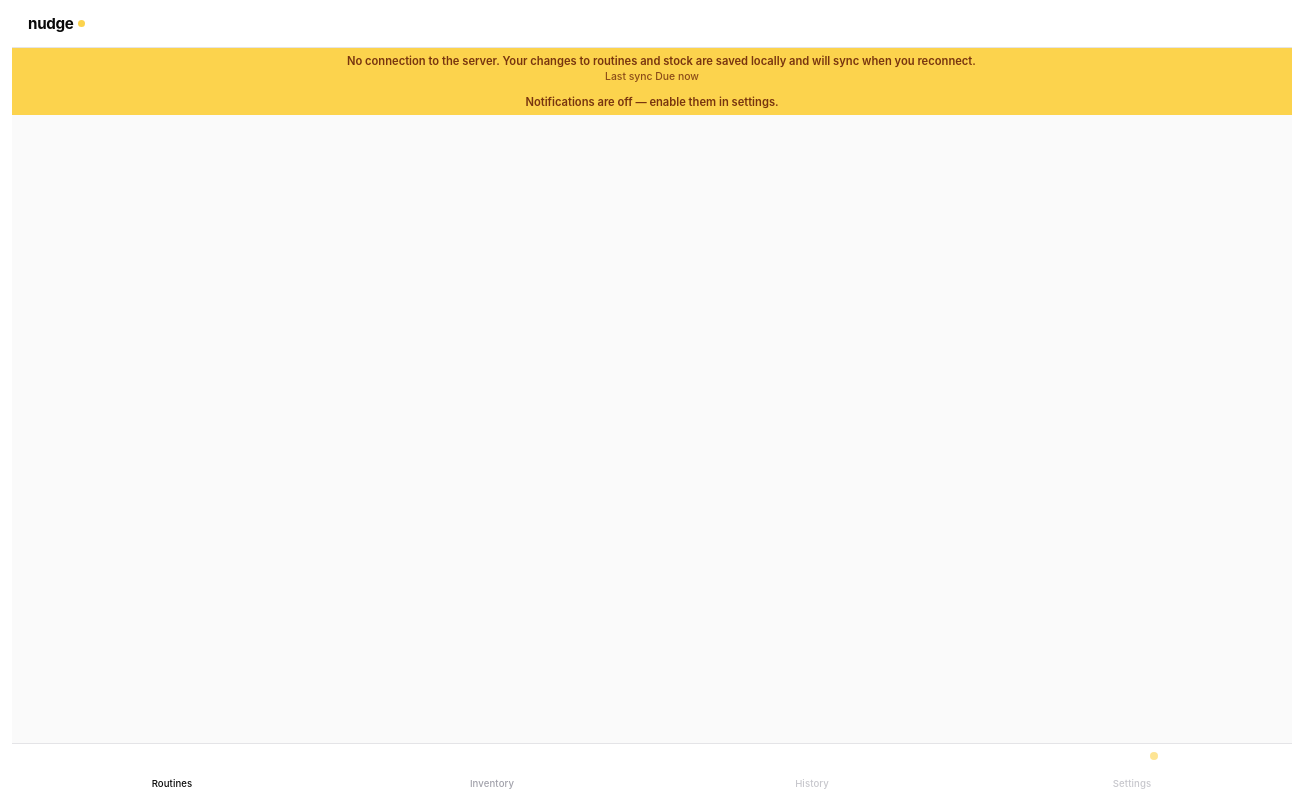
Test: Layout — bottom nav offline lock › clicking a locked nav item does not navigate and surfaces the offline toast
Click the button "History" at (812, 772), box [652,750,972,794]
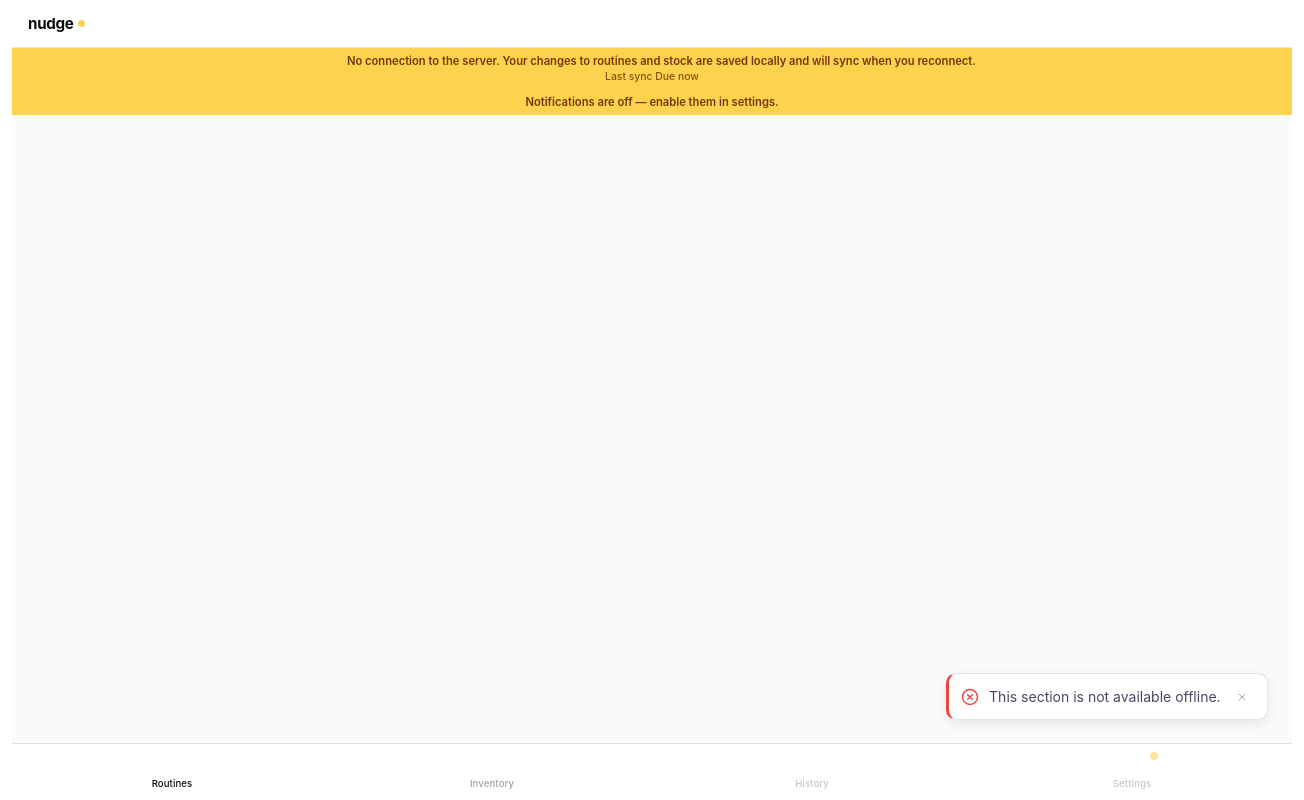
Expected: the text "This section is not available offline." is shown, [989,688,1221,706]
